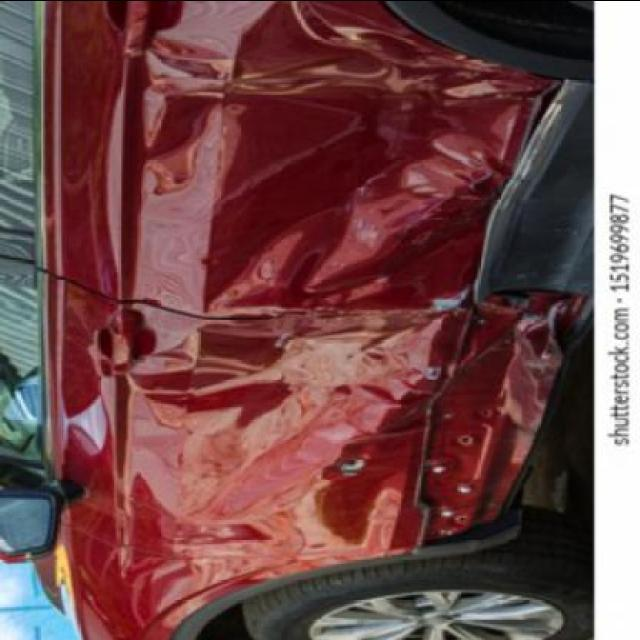doorouter-dent: (43, 2, 484, 296), (43, 295, 473, 568)
